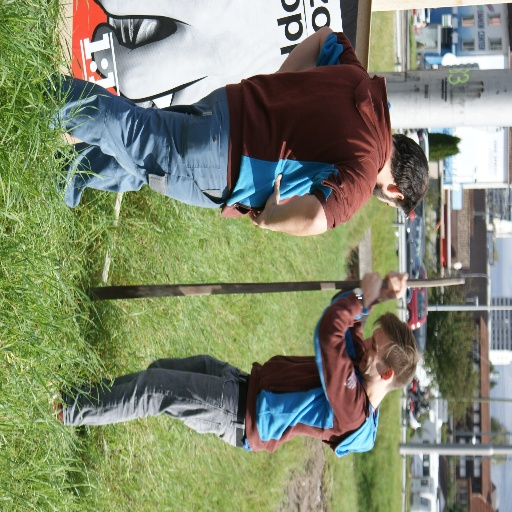hand: (247, 172, 280, 228), (358, 271, 382, 311), (384, 271, 407, 299)
